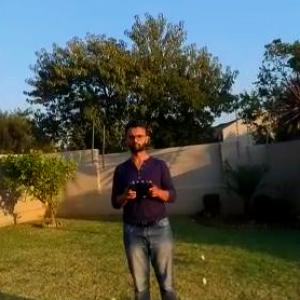follow: (102, 105, 184, 299)
